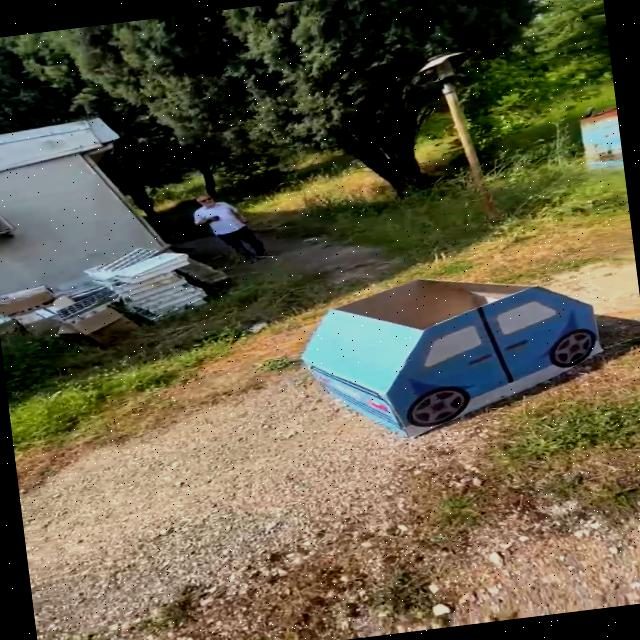blue_car: (274, 237, 640, 458)
